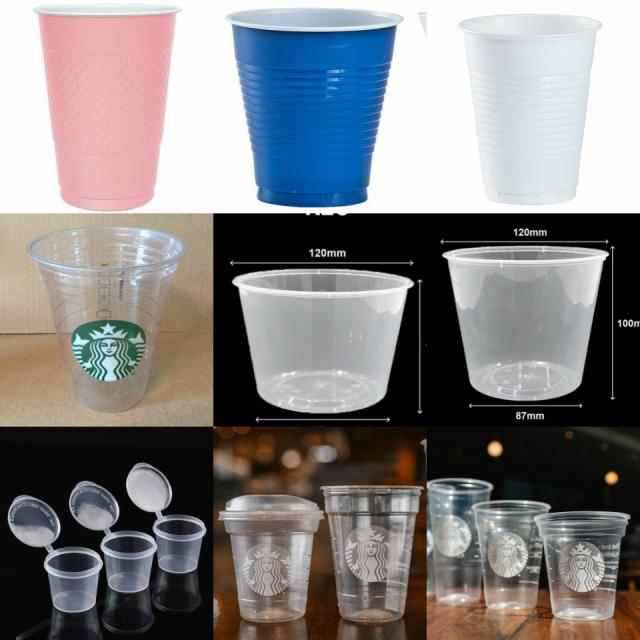Single-Use-Plastic: (226, 9, 402, 207), (34, 4, 180, 211), (26, 228, 186, 411), (459, 14, 601, 204), (232, 269, 414, 414), (444, 246, 609, 401), (321, 485, 422, 622), (219, 495, 324, 622), (533, 509, 632, 624), (8, 495, 102, 612), (70, 481, 156, 592), (426, 474, 494, 607), (126, 462, 206, 572), (472, 497, 547, 612)
